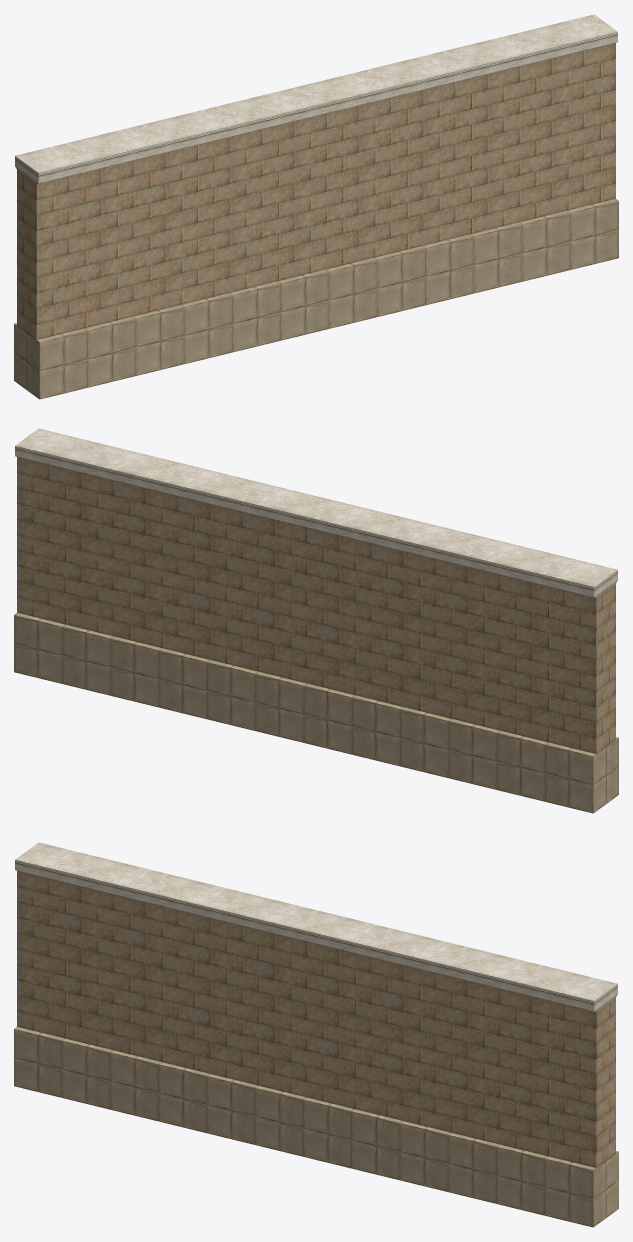
File: thm_nboo_imprv_pristine_wall_lg_s01_l0.fbx
3 renders of one model, top to bottom at view 1: azimuth 30°, elevation 25°; view 2: azimuth 150°, elevation 25°; view 3: azimuth 330°, elevation 25°, orthographic.
Visible parts, largest first — view 1: mesh_node; view 2: mesh_node; view 3: mesh_node.
Part boxes in pixels (box(x1,y1,x2,y2)): mesh_node: box(14, 14, 618, 399); mesh_node: box(14, 428, 618, 813); mesh_node: box(14, 842, 618, 1227).
Bounding box in the file's own units: 18.96 × 7.06 × 1.45.
Materials: 1 (1 with a texture image).
